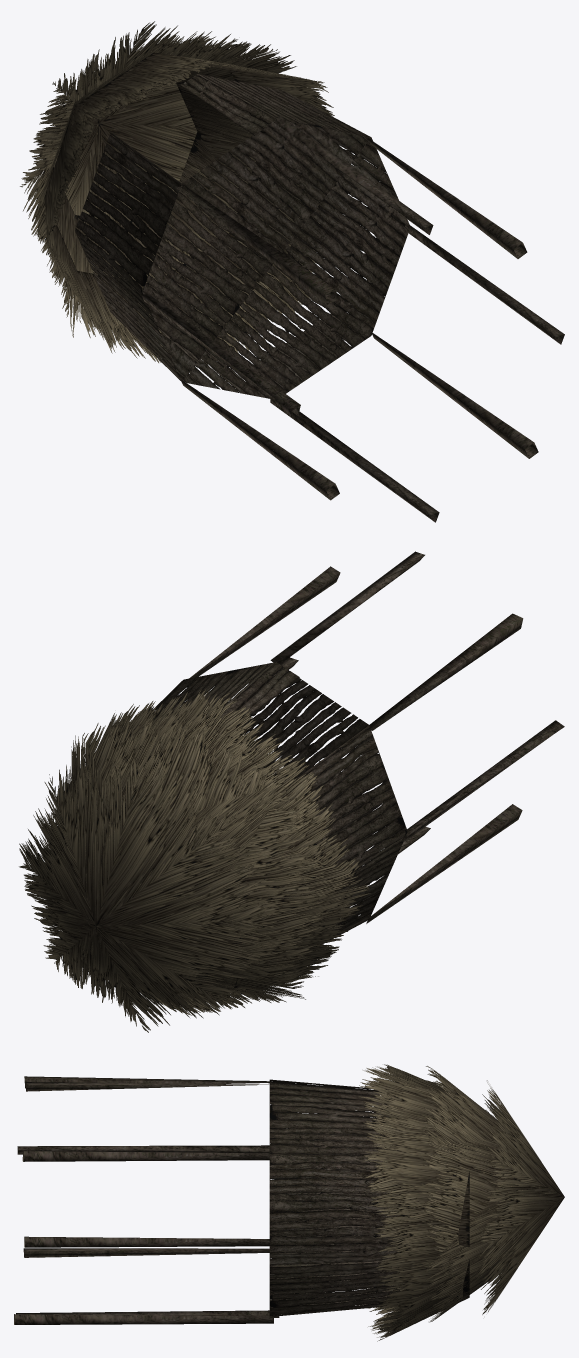
The model's file is MEP_Shack_05_LOD_02.fbx.
3 views of the same model, one above another, from view 1: azimuth 30°, elevation 25°; view 2: azimuth 150°, elevation 25°; view 3: azimuth 270°, elevation 25° (orthographic). The views are drawn at different scales.
Parts seen in each view (by area): view 1: MEP_Shack_05_LOD_02; view 2: MEP_Shack_05_LOD_02; view 3: MEP_Shack_05_LOD_02.
Boxes of the visible parts, <box> form: MEP_Shack_05_LOD_02: <box>20,21,564,522</box>; MEP_Shack_05_LOD_02: <box>19,551,564,1032</box>; MEP_Shack_05_LOD_02: <box>14,1064,564,1341</box>.
Size of the model in its own units: 6.68 by 6.5 by 12.51.
